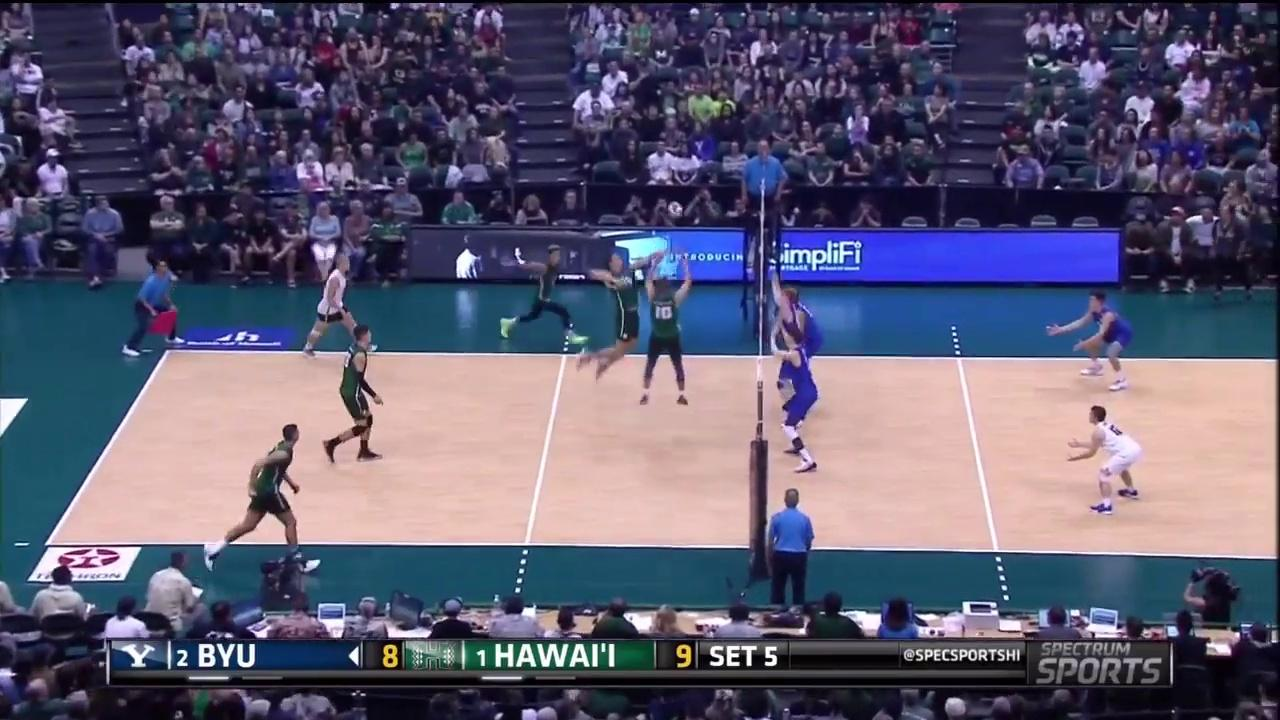player: (213, 422, 309, 549), (579, 247, 655, 378), (640, 268, 702, 418), (1066, 405, 1145, 510), (1048, 295, 1134, 391), (774, 340, 829, 476), (503, 247, 571, 348), (331, 339, 386, 462), (771, 278, 822, 402), (302, 260, 371, 351), (774, 286, 812, 446)
refree: (761, 485, 819, 604), (124, 256, 181, 354), (739, 136, 789, 241)
